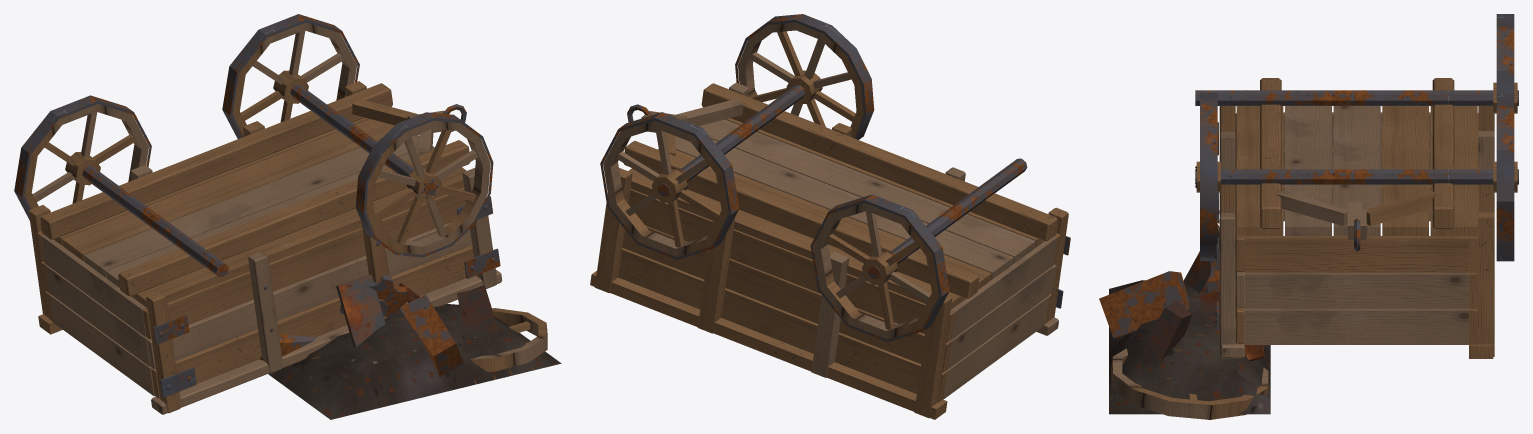
The model's file is Overturned_Junk_Cart.glb.
The picture shows the model from 3 angles, left to right: view 1: azimuth 30°, elevation 25°; view 2: azimuth 150°, elevation 25°; view 3: azimuth 270°, elevation 25°; orthographic projection. The views are drawn at different scales.
Parts seen in each view (by area): view 1: Overturned_Junk_Cart; view 2: Overturned_Junk_Cart; view 3: Overturned_Junk_Cart.
Boxes of the visible parts, x1,y1,x2,y2 form: Overturned_Junk_Cart: [14, 14, 561, 419]; Overturned_Junk_Cart: [590, 14, 1070, 419]; Overturned_Junk_Cart: [1099, 14, 1518, 419].
Size of the model in its own units: 1.83 by 1.1 by 1.56.
5 materials, 5 textured.
